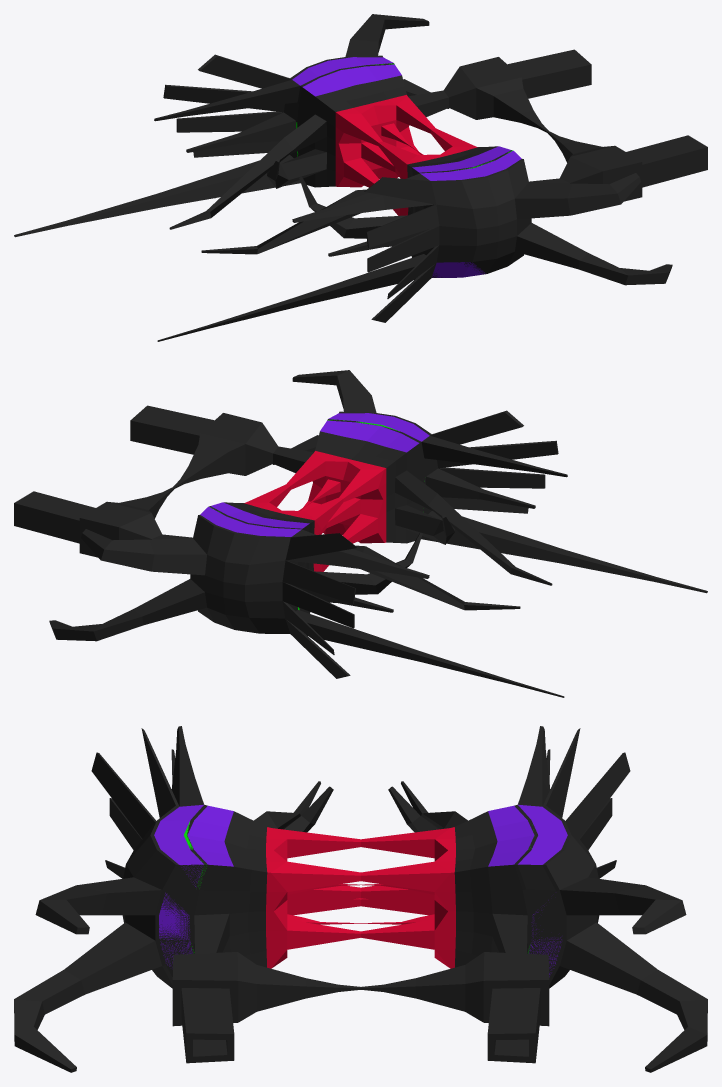
Rendered from EnemyShip3.fbx.
The picture shows the model from 3 angles, top to bottom: view 1: azimuth 30°, elevation 25°; view 2: azimuth 150°, elevation 25°; view 3: azimuth 270°, elevation 25°; orthographic projection. The views are drawn at different scales.
Parts seen in each view (by area): view 1: EnemyShip; view 2: EnemyShip; view 3: EnemyShip.
Boxes of the visible parts, box(x1,y1,x2,y2) form: EnemyShip: box(14, 14, 707, 341); EnemyShip: box(14, 370, 707, 697); EnemyShip: box(14, 726, 707, 1072).
Size of the model in its own units: 1582 by 394 by 1307.
